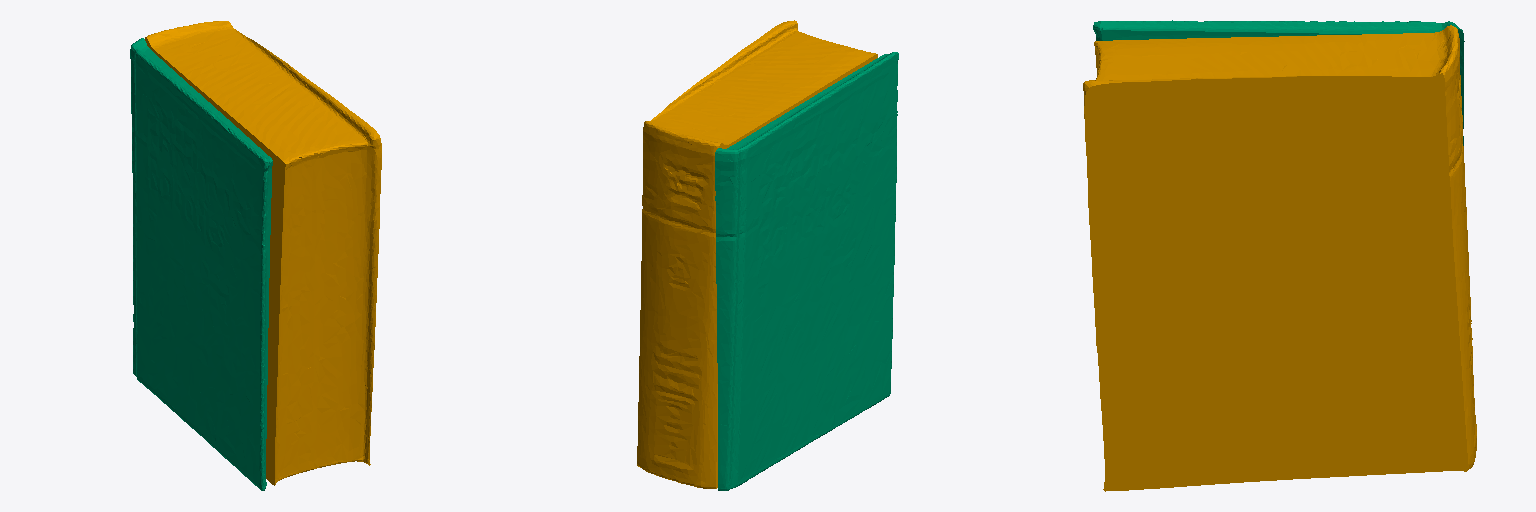
URDF robot description (book):
<?xml version="1.0"?>
<robot name="book">
  <link name ="rb0">
    <visual>
      <origin xyz='0.127528 -0.021424 -0.126922' rpy='-0.049208 -1.379315 -1.552577'/>
      <geometry>
        <mesh filename="package://articulated_objects_db/data/objects/book/meshes/book_bottom.dae"  scale="1 1 1" />
      </geometry>
    </visual>
  </link>
  <joint name="j_0_1" type="revolute">
    <parent link="rb0"/>
    <child link="rb1"/>
    <origin xyz="-0.0127840336627 0.0963514984799 -0.107921289496" rpy="0 0 0 "/>
    <axis xyz="0.0778795231616 0.0208040311173 0.996745690817"/>
    <limit effort="30" velocity="1.0" lower="-3.1416" upper="3.1416"/>
  </joint>
  <joint name="j_0_fixed" type="fixed">
    <parent link="rb1"/>
    <child link="rb1_marker"/>
      <origin xyz="-0.036085312533 -0.212611250033 0.0068916262335" rpy="1.56680366634 -0.0173914329961 1.39385734846"/>
    <limit effort="30" velocity="1.0" lower="-3.1416" upper="3.1416"/>
  </joint>
  <link name ="rb1">
  </link>
  <link name ="rb1_marker">
    <visual>
      <origin xyz='0.112065 -0.028672 0.076906' rpy='1.674489 -0.030900 1.717519'/>
      <geometry>
        <mesh filename="package://articulated_objects_db/data/objects/book/meshes/book_top.dae"  scale="1 1 1" />
      </geometry>
    </visual>
  </link>
</robot>

--- Facts derived from the render (not from the file) ---
The picture shows the robot from 3 angles, left to right: view 1: azimuth 30°, elevation 25°; view 2: azimuth 150°, elevation 25°; view 3: azimuth 270°, elevation 25°; orthographic projection.
Robot: book — 3 links, 2 joints (1 revolute, 1 fixed); root link rb0; default pose: all joints at 0.
Links seen in each view (by area): view 1: rb0, rb1_marker; view 2: rb1_marker, rb0; view 3: rb0, rb1_marker.
Link boxes in pixels (x1,y1,x2,y2): rb0: (145, 21, 381, 485); rb1_marker: (130, 38, 272, 490); rb1_marker: (715, 52, 898, 490); rb0: (637, 20, 877, 488); rb0: (1083, 25, 1476, 491); rb1_marker: (1093, 20, 1464, 145).
Bounding box of the posed robot: 0.0881 × 0.2181 × 0.2569 m (x, y, z).
2 mesh visuals loaded from 2 distinct referenced files (2 Collada DAE).